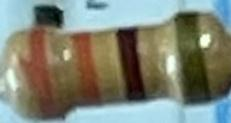Brown: (119, 27, 146, 103)
Orange: (32, 30, 57, 118), (73, 33, 101, 105)
Side-Gold: (179, 17, 210, 103)
